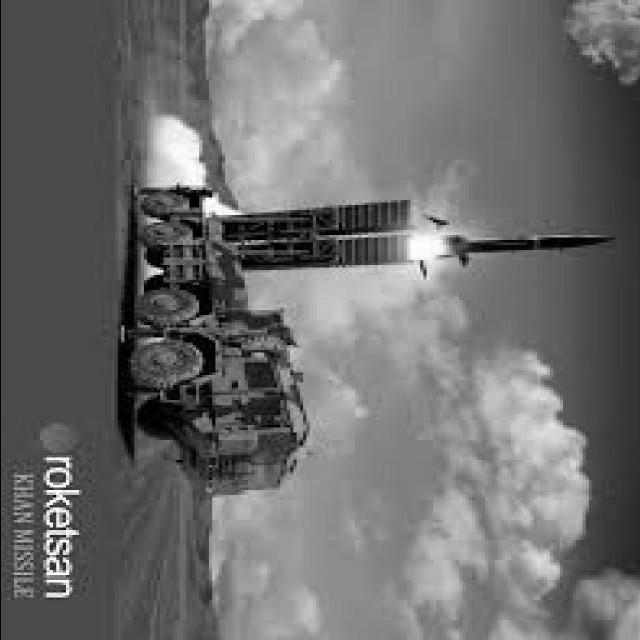missile: (431, 224, 618, 266)
